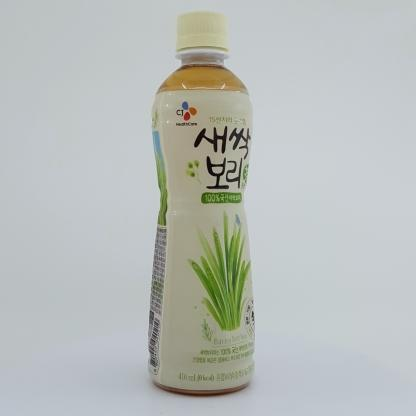CJ-----410ML: (148, 11, 256, 396)
